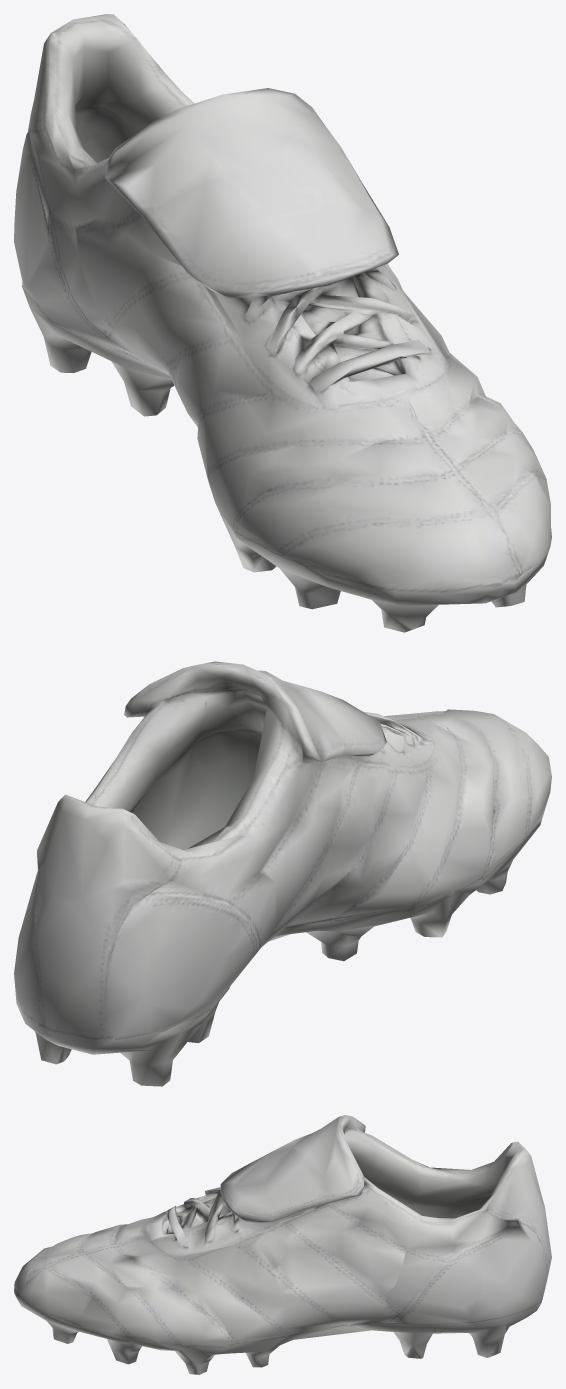
The model's file is boot-control-lod.glb.
3 renders of one model, top to bottom at view 1: azimuth 30°, elevation 25°; view 2: azimuth 150°, elevation 25°; view 3: azimuth 270°, elevation 25°, orthographic. The views are drawn at different scales.
Visible parts, largest first — view 1: tripo_node_5627d3d1-9229-4d3d-b7b3-697a7d745621; view 2: tripo_node_5627d3d1-9229-4d3d-b7b3-697a7d745621; view 3: tripo_node_5627d3d1-9229-4d3d-b7b3-697a7d745621.
Boxes of the visible parts, x1,y1,x2,y2 form: tripo_node_5627d3d1-9229-4d3d-b7b3-697a7d745621: (14, 14, 551, 632); tripo_node_5627d3d1-9229-4d3d-b7b3-697a7d745621: (14, 661, 551, 1086); tripo_node_5627d3d1-9229-4d3d-b7b3-697a7d745621: (14, 1115, 551, 1374).
Bounding box in the file's own units: 0.3706 × 0.4342 × 0.9967.
1 material, 1 textured.
